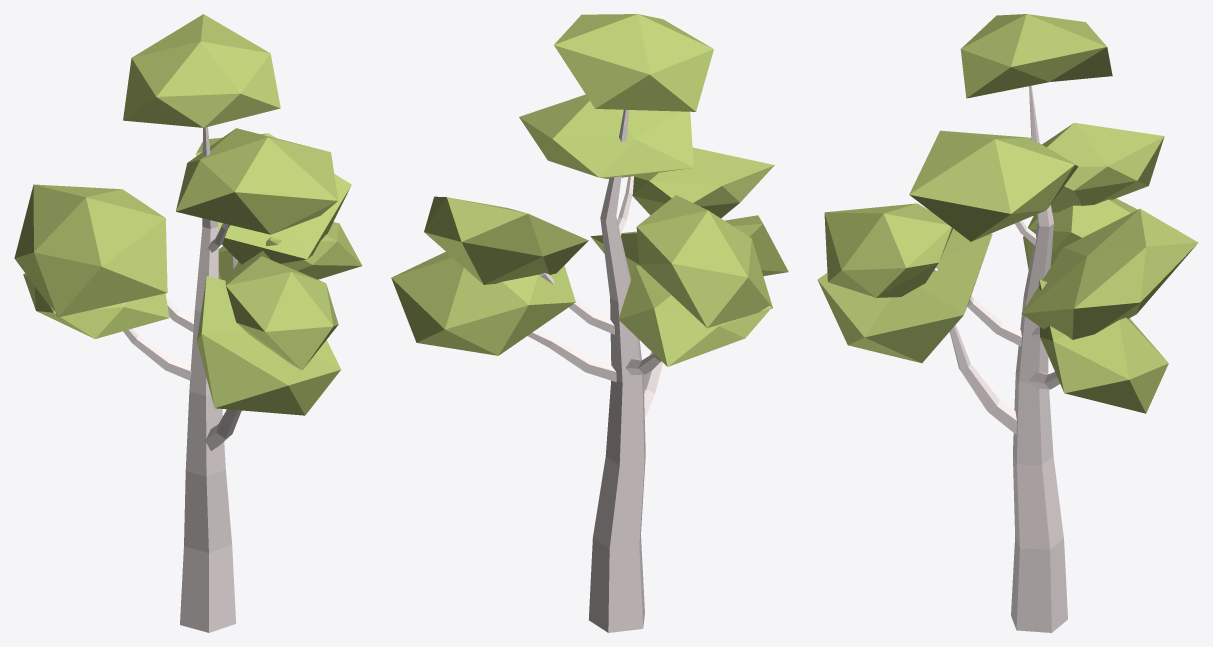
The model's file is Birch_002.fbx.
The picture shows the model from 3 angles, left to right: view 1: azimuth 30°, elevation 25°; view 2: azimuth 150°, elevation 25°; view 3: azimuth 270°, elevation 25°; orthographic projection. The views are drawn at different scales.
Parts seen in each view (by area): view 1: Birch.002; view 2: Birch.002; view 3: Birch.002.
Boxes of the visible parts, bbox=[...] form: Birch.002: bbox=[14, 14, 362, 632]; Birch.002: bbox=[391, 14, 788, 632]; Birch.002: bbox=[817, 14, 1198, 632].
Size of the model in its own units: 3.56 by 6.09 by 3.5.
